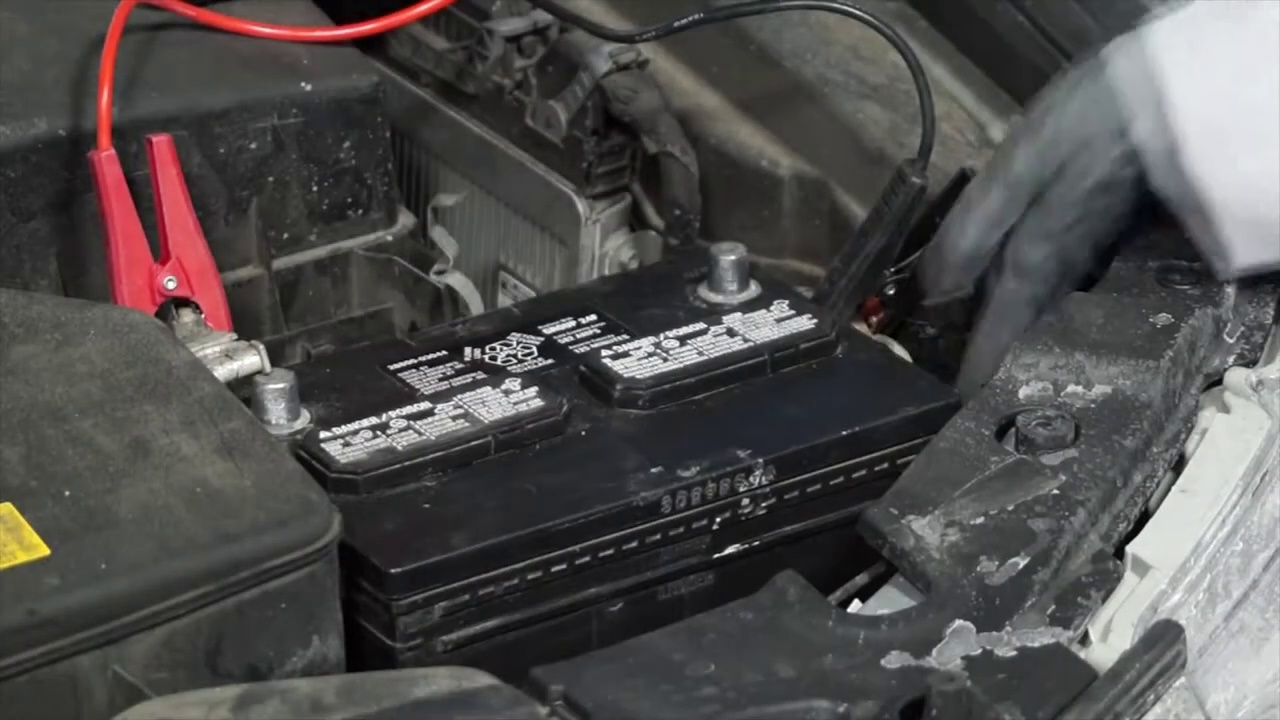battery: (204, 224, 911, 546)
neg_disconnected: (669, 205, 784, 320)
pos_disconnected: (117, 204, 329, 433)
